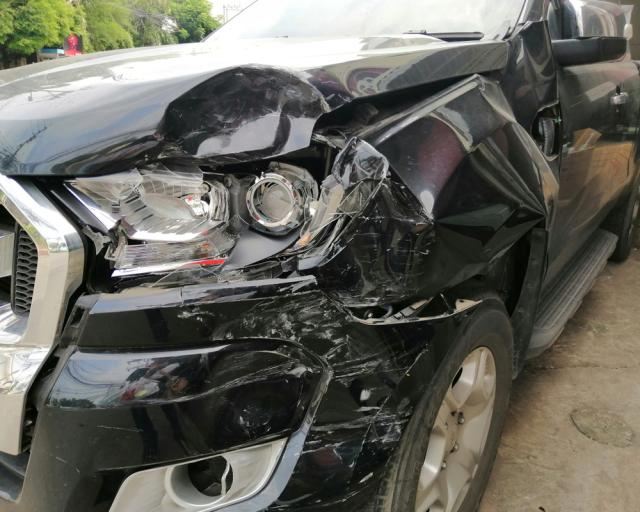dent: (154, 66, 330, 164), (315, 169, 436, 302), (479, 24, 560, 137)
lamp broken: (70, 137, 339, 287)
scratch: (178, 283, 416, 475)
